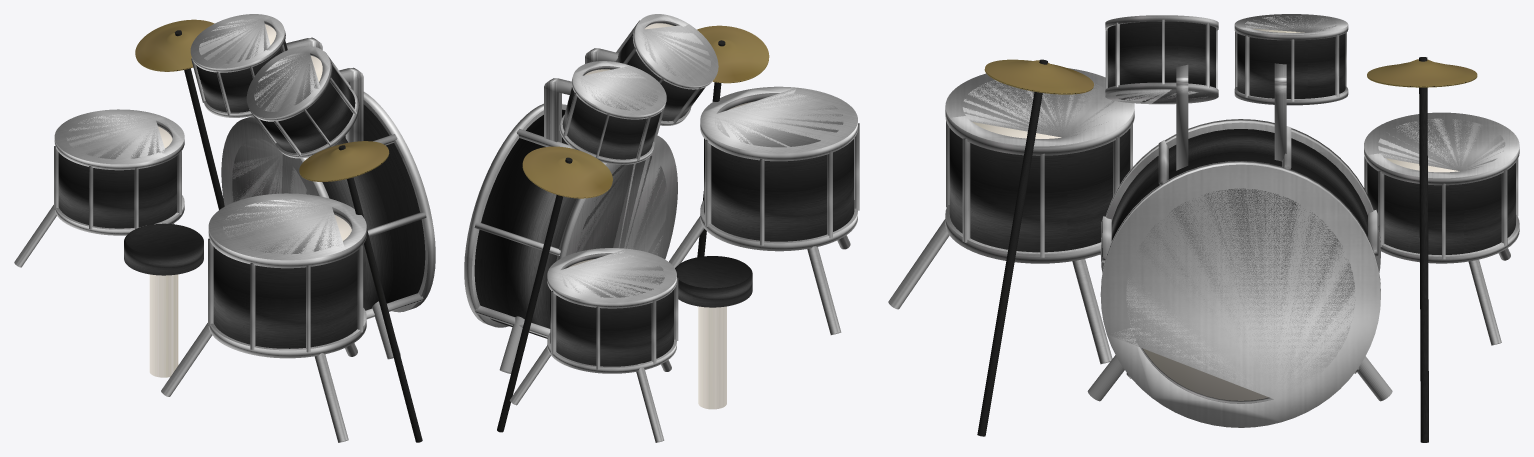
The model's file is drum kit.fbx.
The picture shows the model from 3 angles, left to right: view 1: azimuth 30°, elevation 25°; view 2: azimuth 150°, elevation 25°; view 3: azimuth 270°, elevation 25°; orthographic projection. The views are drawn at different scales.
Visible parts, largest first — view 1: Cylinder.001, Cylinder, Cylinder.006, Cylinder.007, Cylinder.004, Cylinder.021, Cylinder.003, Cylinder.013, Cylinder.010, Cylinder.012, Cylinder.020, Cylinder.018 (+12 smaller); view 2: Cylinder.007, Cylinder.001, Cylinder, Cylinder.006, Cylinder.004, Cylinder.003, Cylinder.021, Cylinder.010, Cylinder.013, Cylinder.018, Cylinder.009, Cylinder.020 (+12 smaller); view 3: Cylinder.007, Cylinder, Cylinder.001, Cylinder.004, Cylinder.003, Cylinder.006, Cylinder.012, Cylinder.009, Cylinder.010, Cylinder.017, Cylinder.019, Cylinder.015 (+13 smaller).
Boxes of the visible parts, bbox=[...] form: Cylinder.001: bbox=[208, 193, 366, 358]; Cylinder: bbox=[213, 247, 357, 348]; Cylinder.006: bbox=[309, 104, 425, 310]; Cylinder.007: bbox=[221, 92, 435, 312]; Cylinder.004: bbox=[54, 109, 184, 235]; Cylinder.021: bbox=[124, 223, 203, 377]; Cylinder.003: bbox=[58, 152, 176, 228]; Cylinder.013: bbox=[246, 46, 359, 158]; Cylinder.010: bbox=[190, 14, 285, 117]; Cylinder.012: bbox=[259, 66, 355, 153]; Cylinder.020: bbox=[299, 141, 389, 181]; Cylinder.018: bbox=[135, 19, 214, 71]; Cylinder.007: bbox=[464, 103, 677, 327]; Cylinder.001: bbox=[700, 86, 857, 251]; Cylinder: bbox=[704, 138, 854, 241]; Cylinder.006: bbox=[474, 109, 576, 338]; Cylinder.004: bbox=[547, 248, 676, 373]; Cylinder.003: bbox=[550, 290, 673, 366]; Cylinder.021: bbox=[675, 256, 752, 409]; Cylinder.010: bbox=[559, 61, 666, 164]; Cylinder.013: bbox=[632, 14, 718, 125]; Cylinder.018: bbox=[522, 146, 612, 198]; Cylinder.009: bbox=[562, 87, 660, 159]; Cylinder.020: bbox=[697, 25, 769, 83]; Cylinder.007: bbox=[1100, 119, 1380, 427]; Cylinder: bbox=[949, 128, 1130, 252]; Cylinder.001: bbox=[945, 68, 1134, 263]; Cylinder.004: bbox=[1364, 112, 1519, 263]; Cylinder.003: bbox=[1367, 162, 1515, 254]; Cylinder.006: bbox=[1111, 129, 1367, 240]; Cylinder.012: bbox=[1107, 21, 1215, 87]; Cylinder.009: bbox=[1237, 33, 1345, 98]; Cylinder.010: bbox=[1234, 14, 1348, 105]; Cylinder.017: bbox=[1419, 57, 1428, 442]; Cylinder.019: bbox=[977, 59, 1047, 436]; Cylinder.015: bbox=[888, 219, 1112, 364].
Size of the model in its own units: 402 by 477 by 667.
6 materials, 5 textured.
